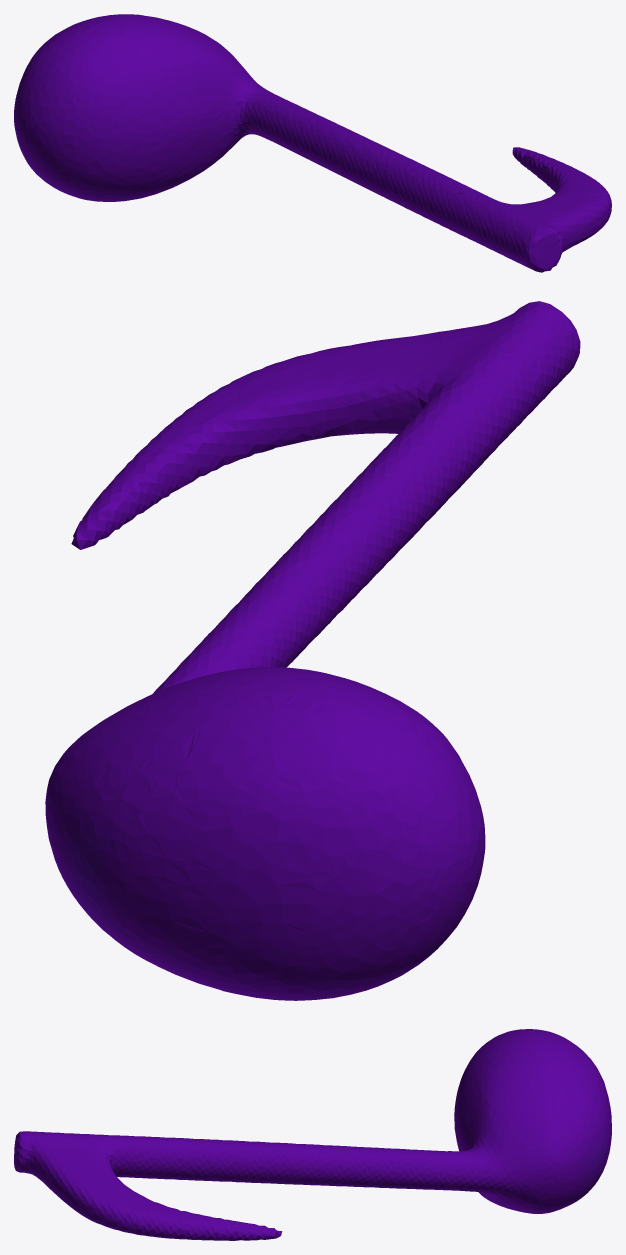
The model's file is purplenote.obj.
3 renders of one model, top to bottom at view 1: azimuth 30°, elevation 25°; view 2: azimuth 150°, elevation 25°; view 3: azimuth 270°, elevation 25°, orthographic. The views are drawn at different scales.
Visible parts, largest first — view 1: Layer_1; view 2: Layer_1; view 3: Layer_1.
Boxes of the visible parts, left/top/right/bottom form: Layer_1: left=14, top=14, right=611, bottom=272; Layer_1: left=45, top=301, right=580, bottom=1000; Layer_1: left=14, top=1029, right=611, bottom=1240.
Bounding box in the file's own units: 0.1236 × 0.0541 × 0.1926.
